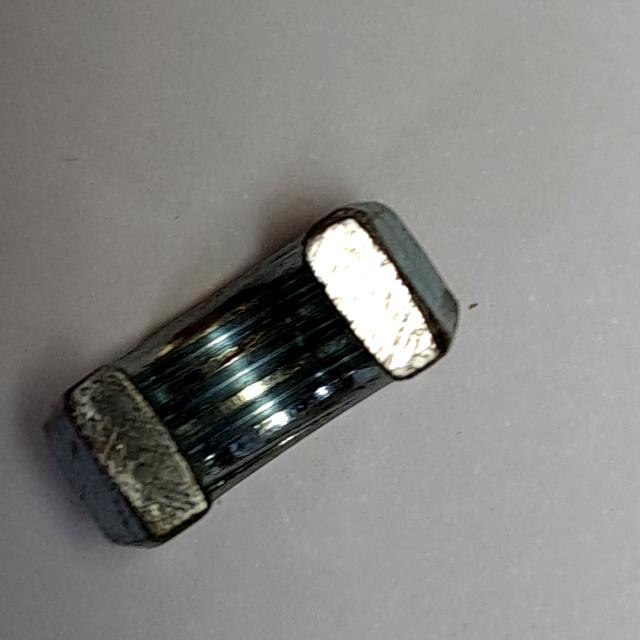Side-Fracture: (32, 186, 471, 569)
